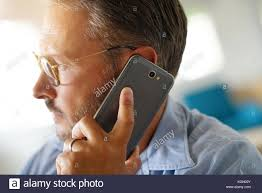phone: (89, 54, 175, 163)
talk: (31, 45, 175, 176)
